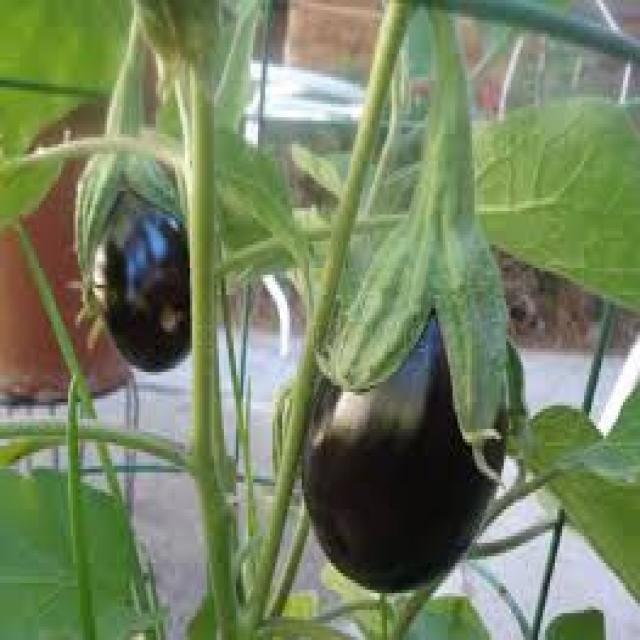Eggplant: (300, 93, 510, 594), (72, 60, 212, 373)
